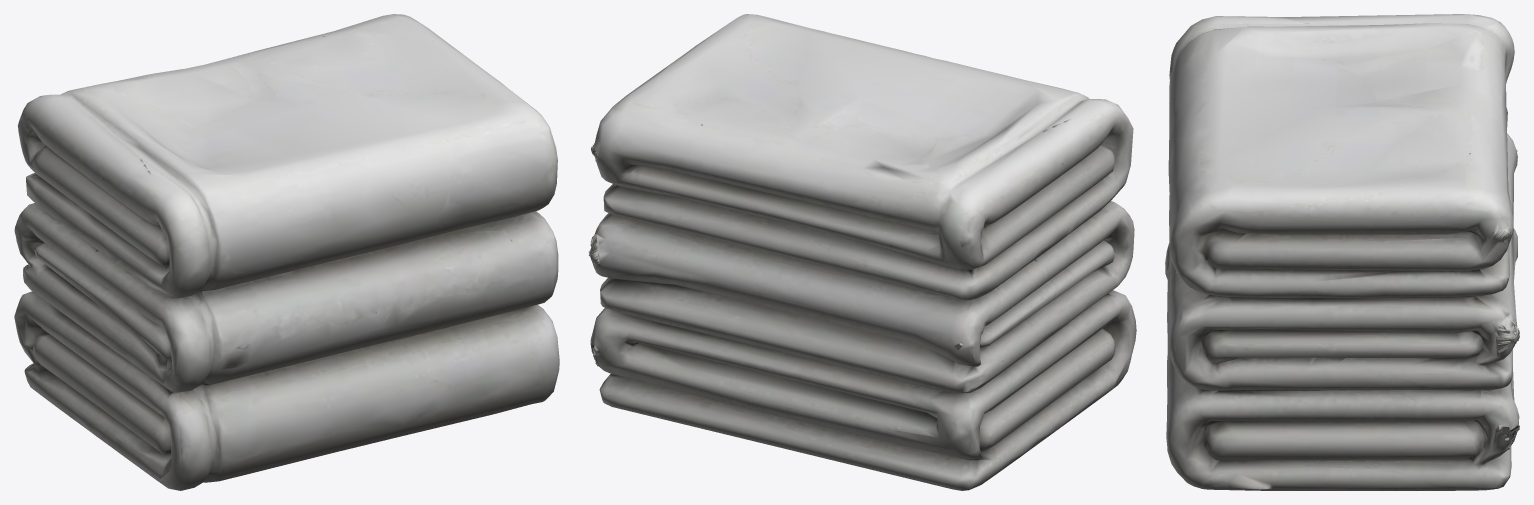
File: towels-lite.glb
The picture shows the model from 3 angles, left to right: view 1: azimuth 30°, elevation 25°; view 2: azimuth 150°, elevation 25°; view 3: azimuth 270°, elevation 25°; orthographic projection. The views are drawn at different scales.
Visible parts, largest first — view 1: node_0; view 2: node_0; view 3: node_0.
Boxes of the visible parts, box(x1,y1,x2,y2) form: node_0: box(14, 14, 559, 490); node_0: box(588, 14, 1136, 490); node_0: box(1165, 14, 1519, 490).
Bounding box in the file's own units: 0.8723 × 0.6464 × 0.6788.
1 material, 1 textured.
